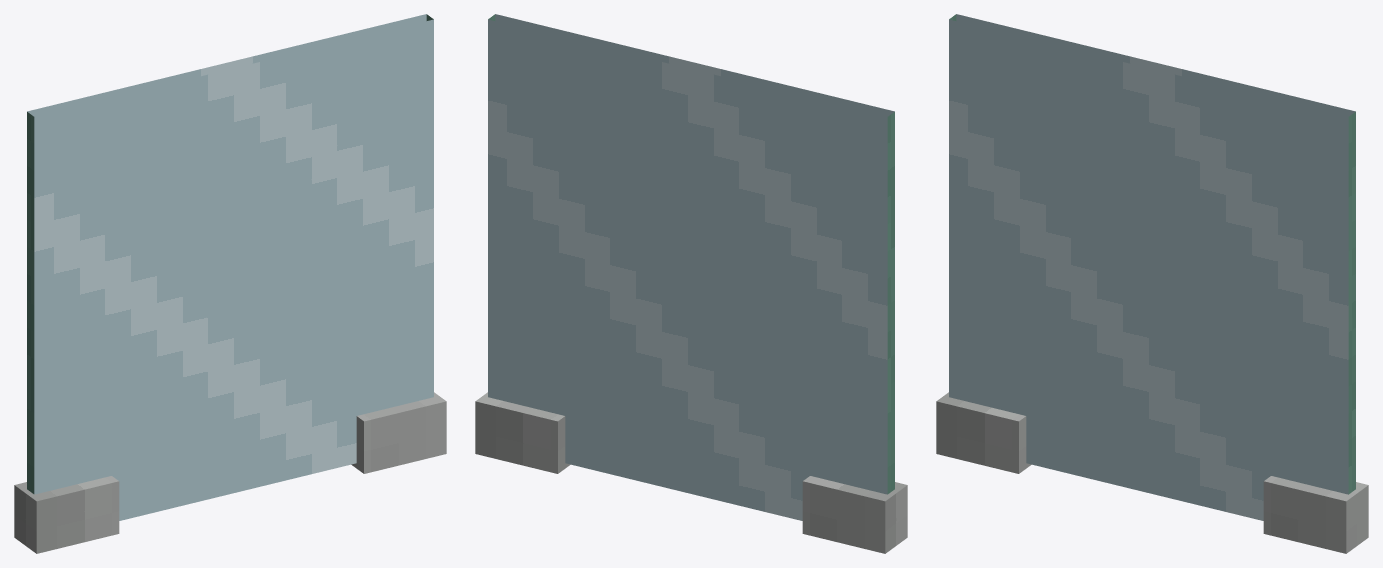
File: auto_door_tele_slider_frameless_c2_lower_left_open.obj
3 renders of one model, left to right at view 1: azimuth 30°, elevation 25°; view 2: azimuth 150°, elevation 25°; view 3: azimuth 330°, elevation 25°, orthographic.
Parts seen in each view (by area): view 1: auto_door_tele_slider_frameless_c2_lower_left_open; view 2: auto_door_tele_slider_frameless_c2_lower_left_open; view 3: auto_door_tele_slider_frameless_c2_lower_left_open.
Part boxes in pixels (<box>): auto_door_tele_slider_frameless_c2_lower_left_open: <box>14,14,446,553</box>; auto_door_tele_slider_frameless_c2_lower_left_open: <box>475,14,907,553</box>; auto_door_tele_slider_frameless_c2_lower_left_open: <box>936,14,1368,553</box>.
Bounding box in the file's own units: 0.9938 × 0.9969 × 0.0938.
